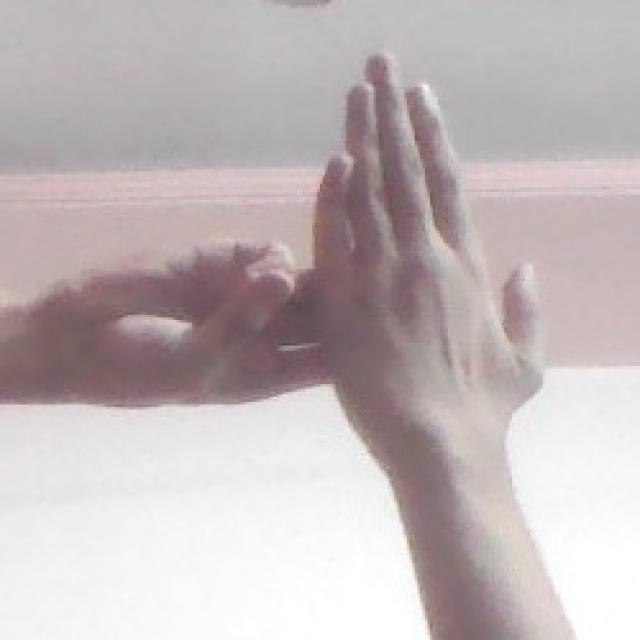Alphabet-M: (15, 41, 558, 476)
